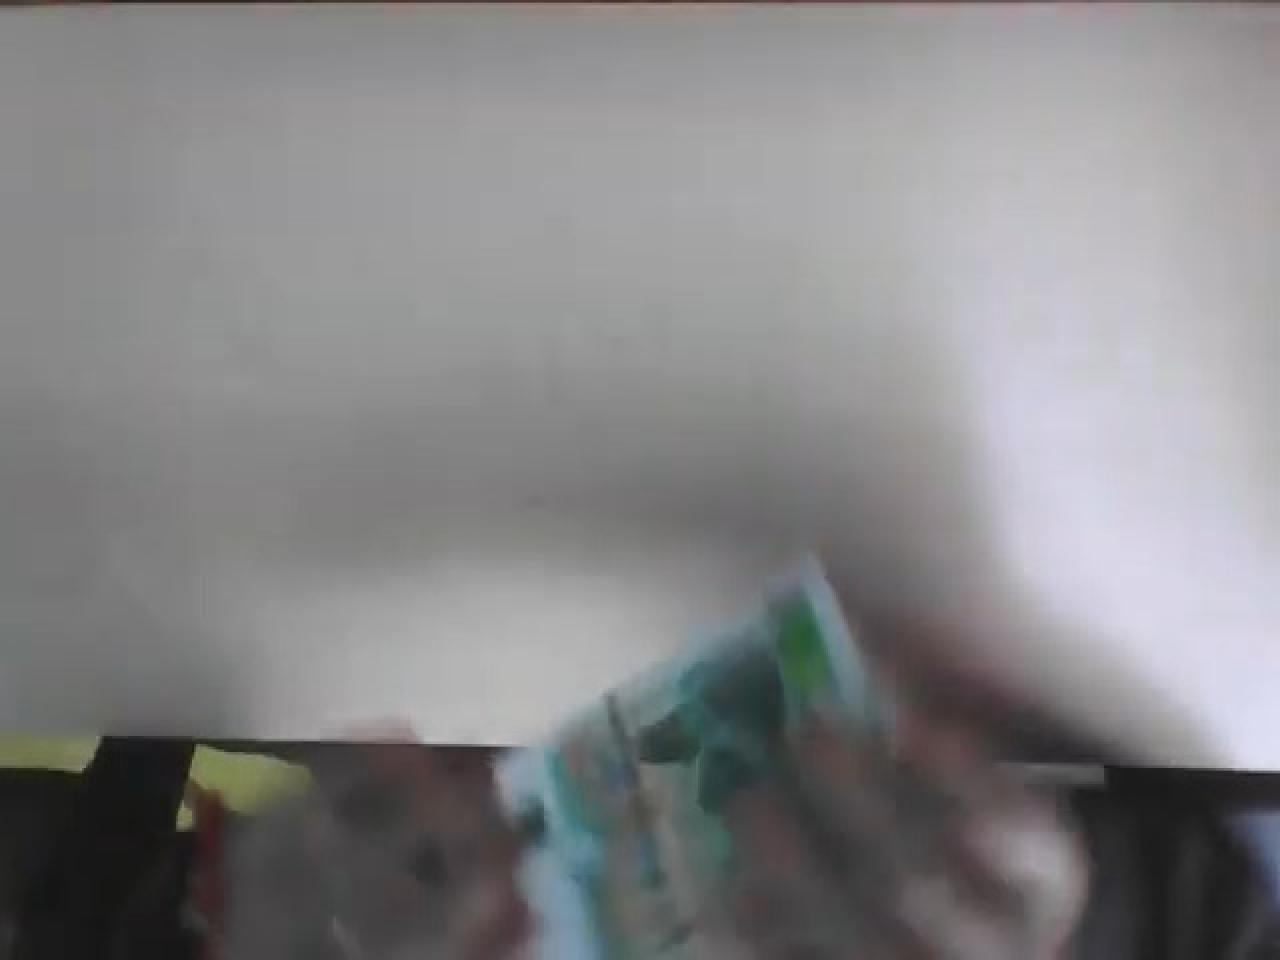100leva: (4, 8, 1278, 957)
